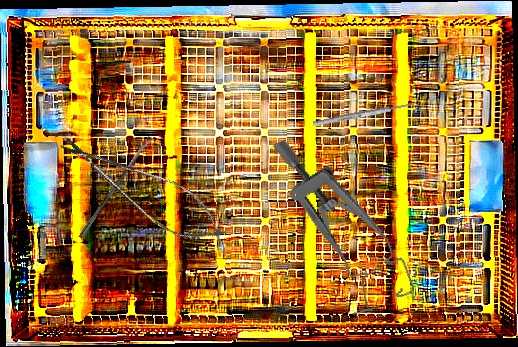Micro Scissor: (47, 121, 239, 259)
Speculum: (270, 115, 418, 323)
Surgical Spoon: (78, 135, 153, 240), (312, 99, 423, 128)
